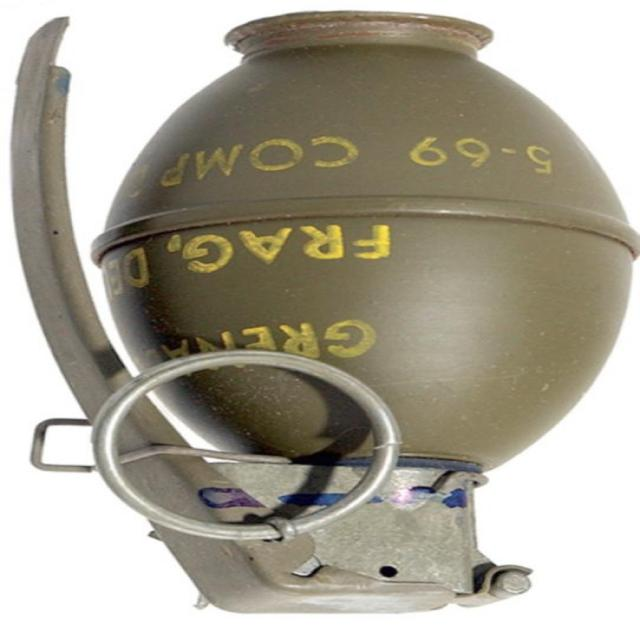grenade: (10, 10, 640, 615)
